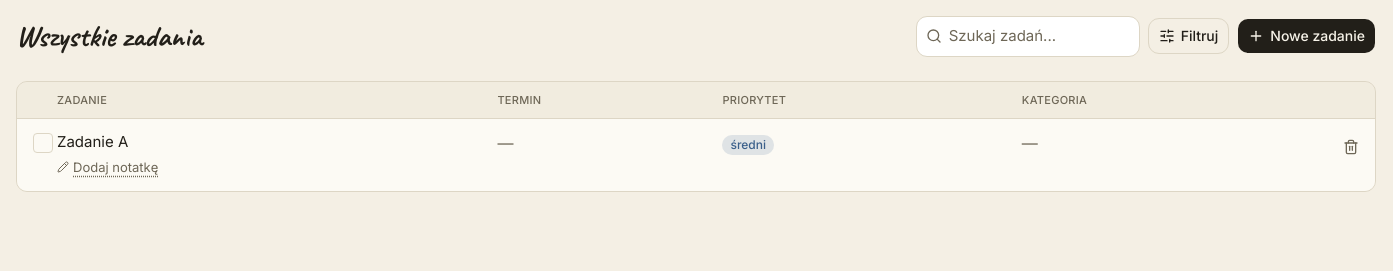
AllTasksPage / TaskTable (P-E) › tabela: inline edycja notatki zapisuje description i utrwala (POPRAWKA 6)
Click the button with aria-label "Dodaj notatkę do zadania: Zadanie A" at (108, 167), box [57, 158, 158, 177]
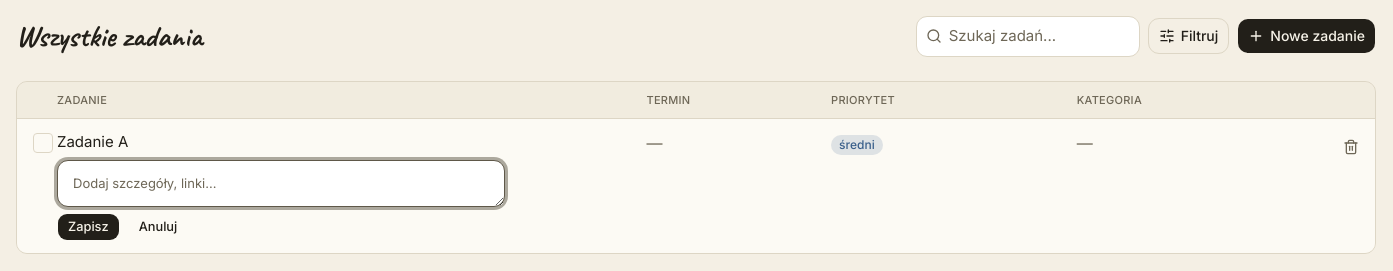
Type "Notatka z tabeli" into the text box named "Notatka zadania" at (281, 183), box [57, 160, 505, 207]
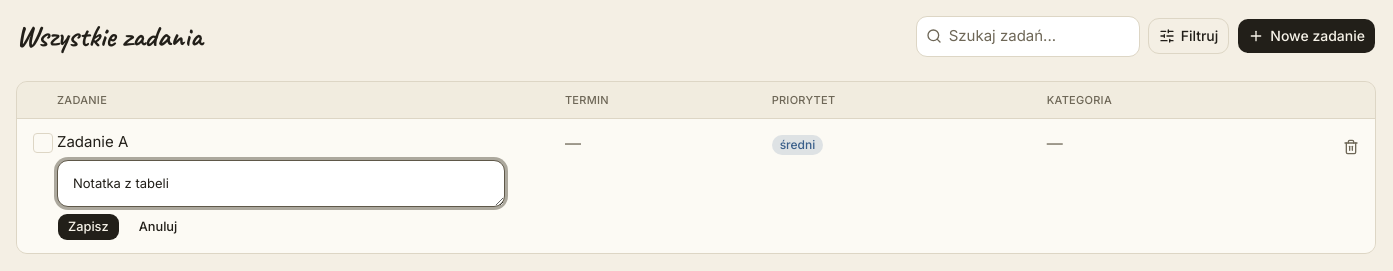
Click the button "Zapisz" at (88, 227), box [57, 213, 120, 241]
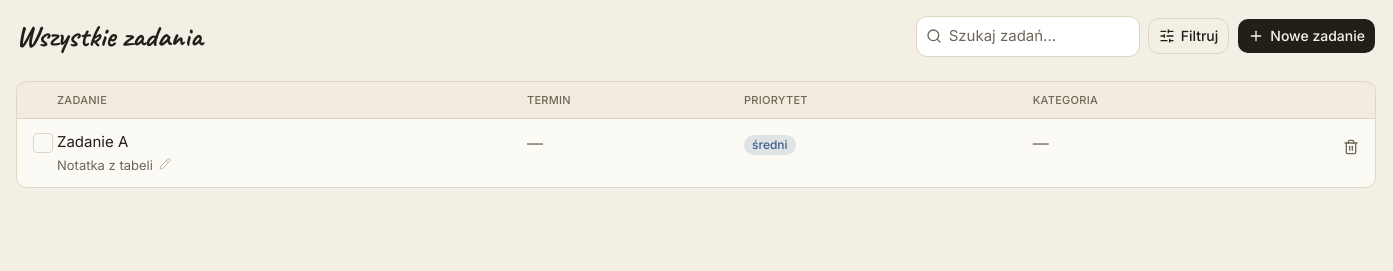
Check: the text "Notatka z tabeli" is shown, box [57, 156, 153, 175]
